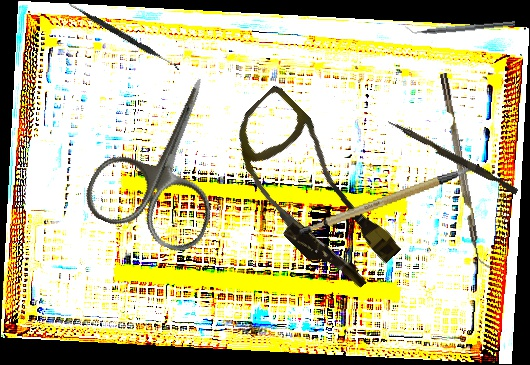Cannula: (204, 83, 420, 301)
Chopper: (439, 71, 492, 271), (404, 13, 516, 38)
Iris Scissors: (78, 55, 259, 259)
Pusher: (384, 119, 521, 195)
Scalpel Handle: (293, 164, 486, 239)
Spatula Surgical: (66, 2, 183, 71)
